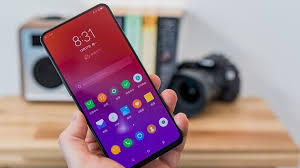lenovo: (41, 3, 186, 166)
